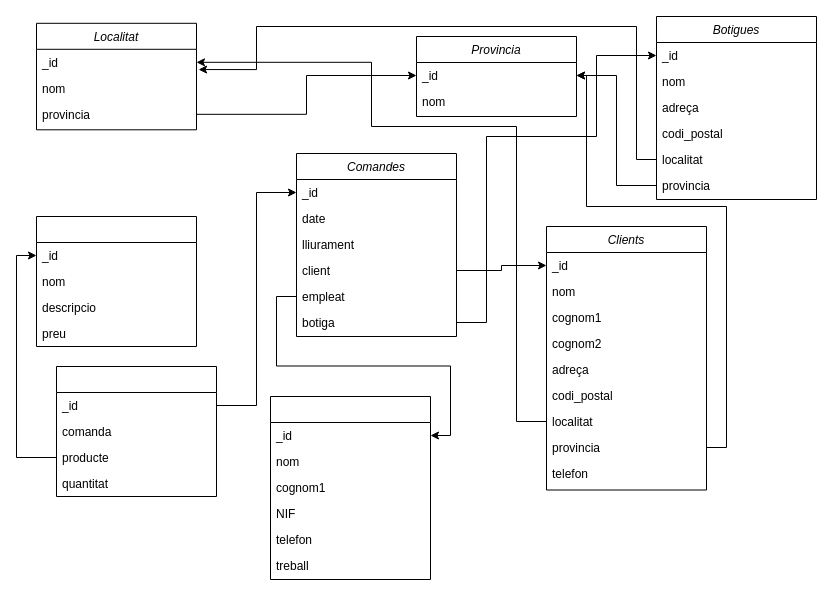
The diagram is 833 pixels wide and 596 high, and some of its shapes have lost their labels. Each missing label, with the box of its shape:
Detalls_comanda: (56, 366, 216, 496)
Empleats: (270, 396, 430, 580)
Productes: (36, 216, 196, 346)
